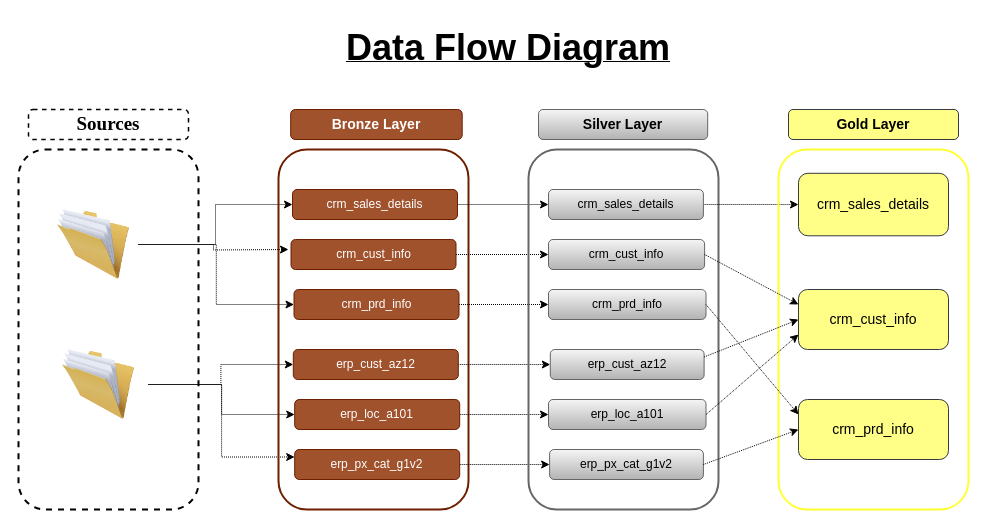
The diagram is 986 pixels wide and 527 high, and some of its shapes have lost their labels. The box of each missing label's shape, as (x1, y1, x2, y2) in pixels:
CRM: (48, 209, 138, 279)
ERP: (48, 349, 148, 419)
